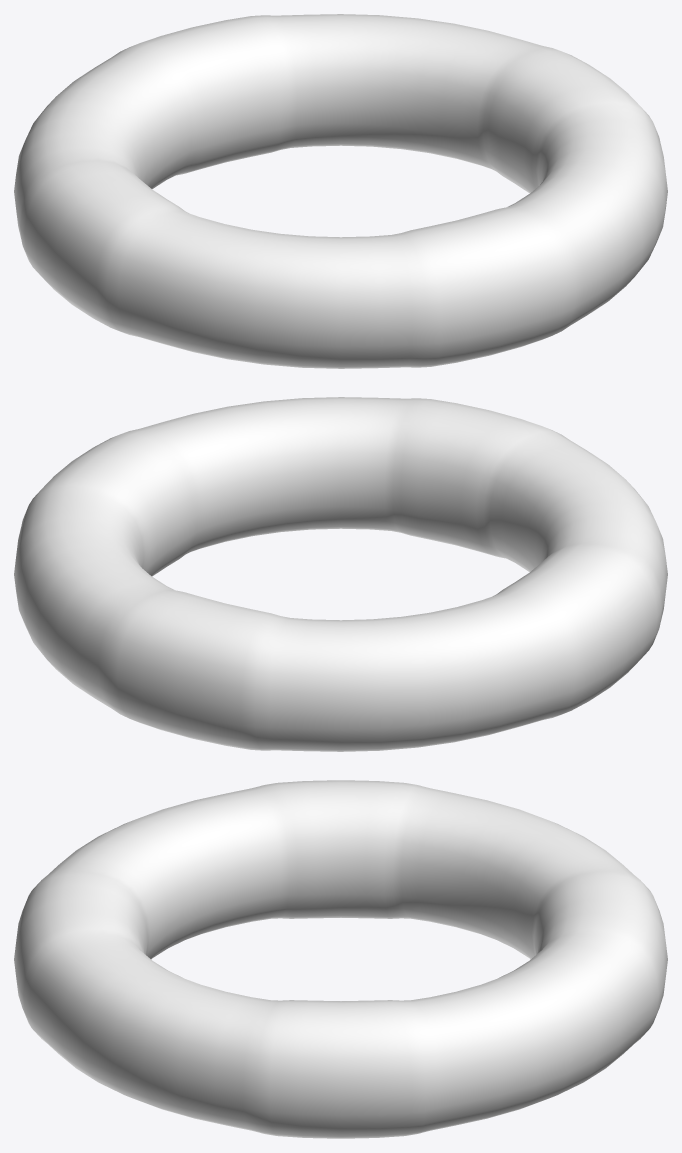
The model's file is Fbx_LifeSaver.fbx.
The picture shows the model from 3 angles, top to bottom: view 1: azimuth 30°, elevation 25°; view 2: azimuth 150°, elevation 25°; view 3: azimuth 270°, elevation 25°; orthographic projection.
Visible parts, largest first — view 1: Life Saver; view 2: Life Saver; view 3: Life Saver.
Part boxes in pixels (x1,y1,x2,y2): Life Saver: (14,14,667,368); Life Saver: (14,397,667,751); Life Saver: (14,780,667,1138).
Bounding box in the file's own units: 39.73 × 8.1 × 39.73.
